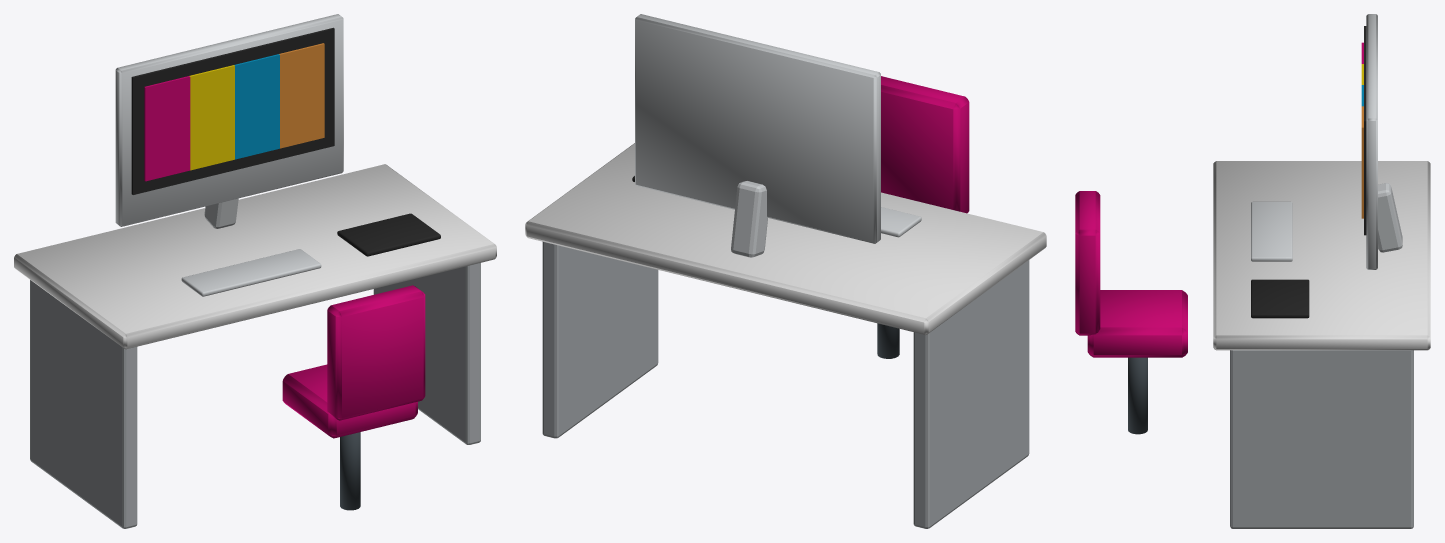
The model's file is m_imac.glb.
3 views of the same model, side by side, from view 1: azimuth 30°, elevation 25°; view 2: azimuth 150°, elevation 25°; view 3: azimuth 270°, elevation 25° (orthographic). The views are drawn at different scales.
Visible parts, largest first — view 1: m_imac; view 2: m_imac; view 3: m_imac.
Part boxes in pixels (x1,y1,x2,y2): m_imac: (14, 14, 496, 528); m_imac: (525, 14, 1046, 528); m_imac: (1075, 14, 1430, 528).
Bounding box in the file's own units: 0.5 × 0.5 × 0.425.
